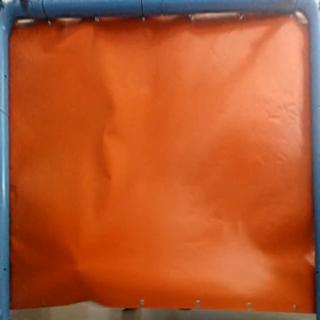Hit-hRxx: (74, 263, 86, 278)
